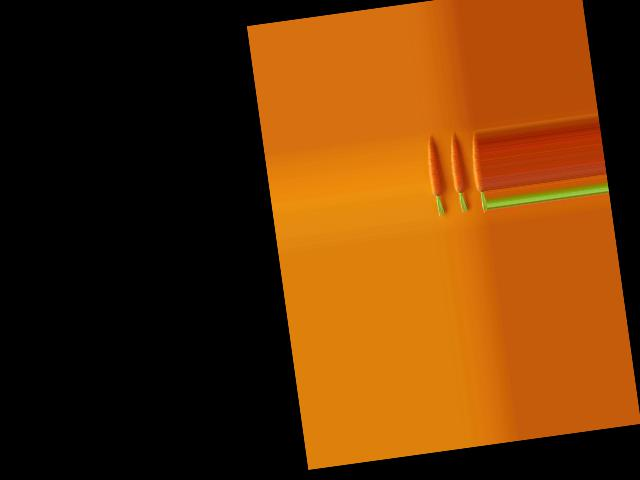carrot: (468, 141, 487, 214)
